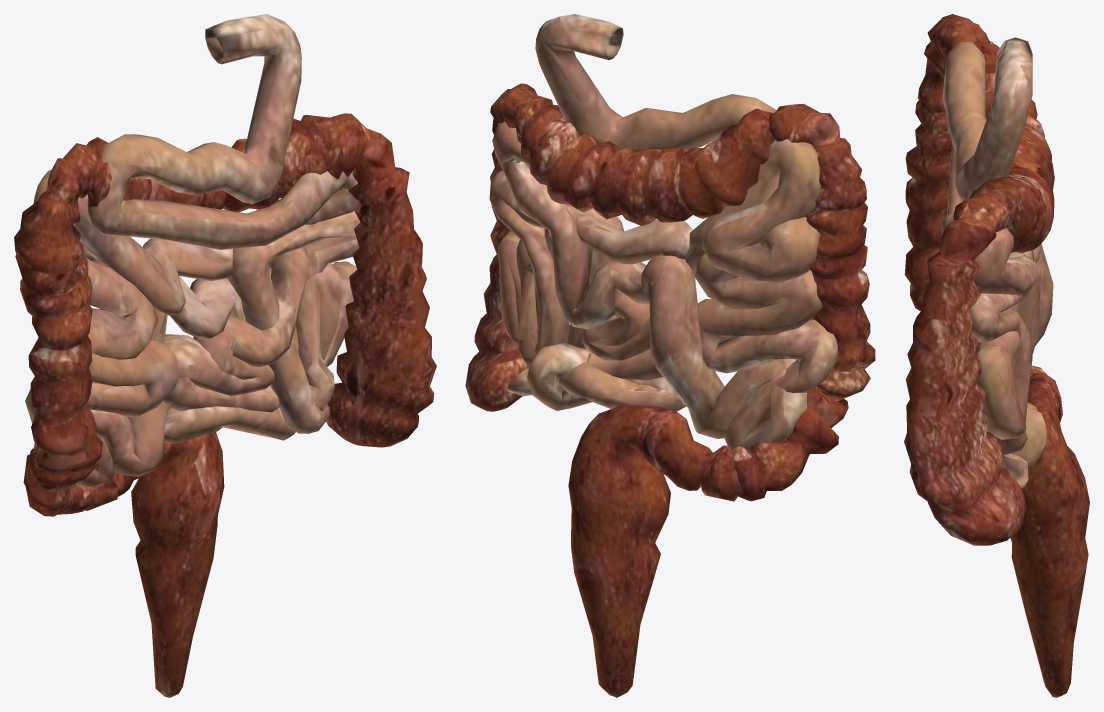
File: intestines.gltf
3 renders of one model, left to right at view 1: azimuth 30°, elevation 25°; view 2: azimuth 150°, elevation 25°; view 3: azimuth 270°, elevation 25°, orthographic. The views are drawn at different scales.
Visible parts, largest first — view 1: BezierCurve, Circle; view 2: BezierCurve, Circle; view 3: Circle, BezierCurve.
Part boxes in pixels (x1,y1,x2,y2): BezierCurve: (25, 14, 360, 487); Circle: (14, 113, 436, 697); BezierCurve: (489, 14, 837, 455); Circle: (465, 83, 875, 697); Circle: (904, 14, 1089, 697); BezierCurve: (941, 37, 1053, 489).
Size of the model in its own units: 1.93 by 3.12 by 0.7794.
Materials: 2 (2 with a texture image).
